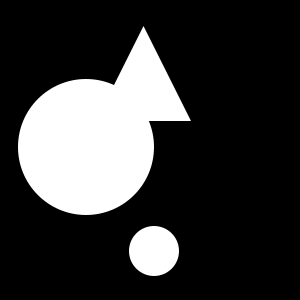rectangle: (18, 79, 154, 215), (129, 226, 179, 276)
triangle: (96, 26, 191, 121)
